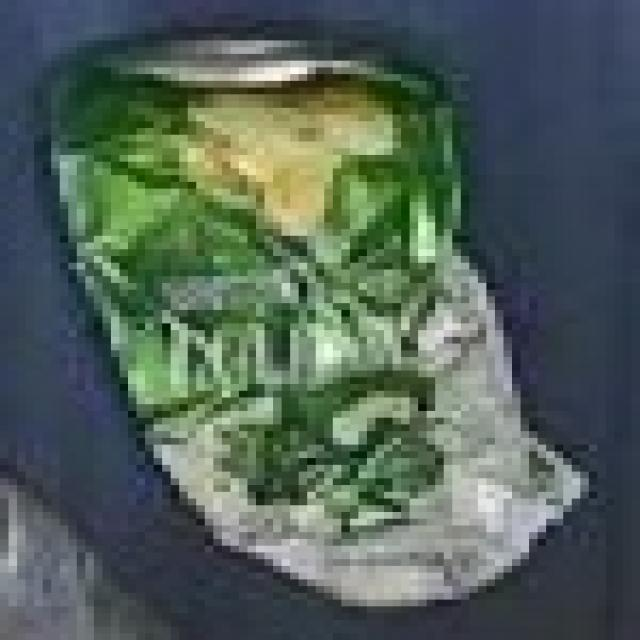can: (26, 35, 638, 610)
